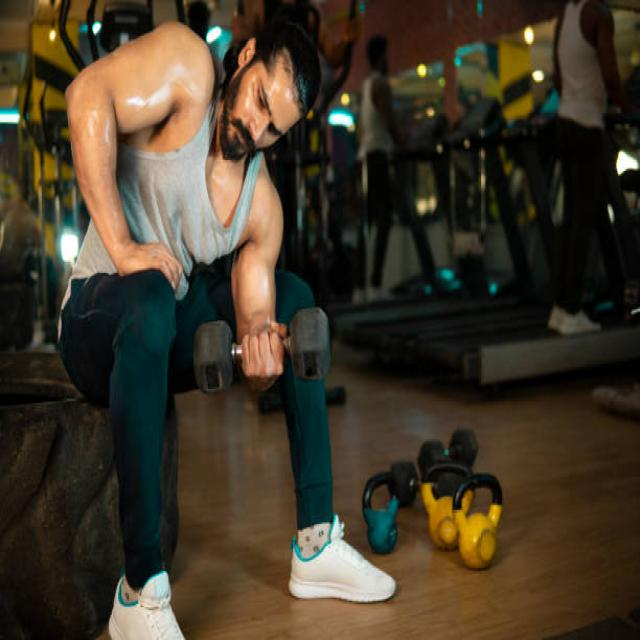no_helmet: (250, 117, 329, 208)
